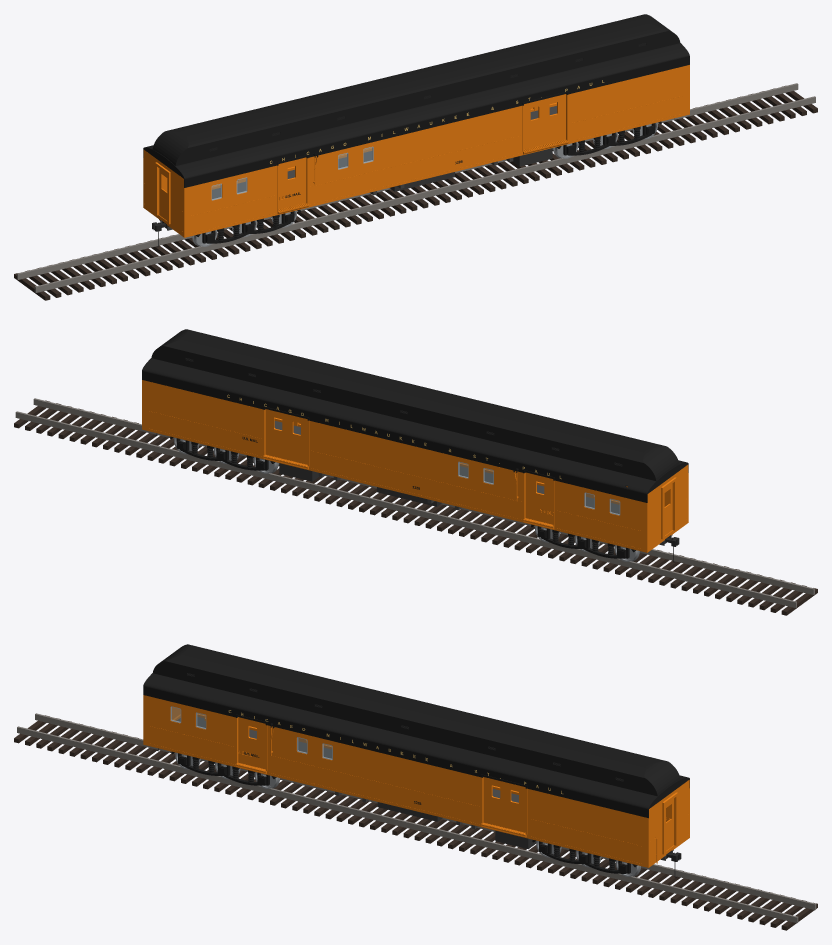
The model's file is MR1927_MailExpress1228.glb.
3 renders of one model, top to bottom at view 1: azimuth 30°, elevation 25°; view 2: azimuth 150°, elevation 25°; view 3: azimuth 330°, elevation 25°, orthographic.
Parts seen in each view (by area): view 1: orange, roof, ties, rails, maroon, trucks, wheels, equipment, floor, glass; view 2: orange, roof, ties, rails, maroon, trucks, wheels, equipment, floor, glass; view 3: orange, roof, ties, rails, maroon, trucks, equipment, wheels, floor, glass.
Part boxes in pixels (left/top/right/bottom): orange: left=143, top=65, right=689, bottom=237; roof: left=143, top=14, right=689, bottom=179; ties: left=14, top=85, right=817, bottom=300; rails: left=17, top=83, right=815, bottom=292; maroon: left=143, top=56, right=689, bottom=187; trucks: left=195, top=121, right=661, bottom=243; wheels: left=192, top=122, right=657, bottom=246; equipment: left=390, top=148, right=552, bottom=191; floor: left=159, top=106, right=556, bottom=230; glass: left=212, top=147, right=372, bottom=199; orange: left=142, top=380, right=688, bottom=552; roof: left=142, top=329, right=688, bottom=494; ties: left=14, top=400, right=817, bottom=615; rails: left=15, top=398, right=814, bottom=607; maroon: left=142, top=371, right=688, bottom=502; trucks: left=170, top=436, right=635, bottom=558; wheels: left=174, top=437, right=639, bottom=561; equipment: left=279, top=463, right=441, bottom=506; floor: left=274, top=421, right=672, bottom=545; glass: left=458, top=462, right=619, bottom=514; orange: left=143, top=695, right=689, bottom=867; roof: left=143, top=644, right=689, bottom=809; ties: left=14, top=715, right=817, bottom=930; rails: left=17, top=713, right=816, bottom=922; maroon: left=143, top=686, right=689, bottom=818; trucks: left=171, top=751, right=637, bottom=873; equipment: left=377, top=802, right=536, bottom=849; wheels: left=175, top=752, right=640, bottom=876; floor: left=177, top=717, right=673, bottom=860; glass: left=171, top=707, right=332, bottom=759.
Bounding box in the file's own units: 1.14 × 0.1609 × 0.1124.
